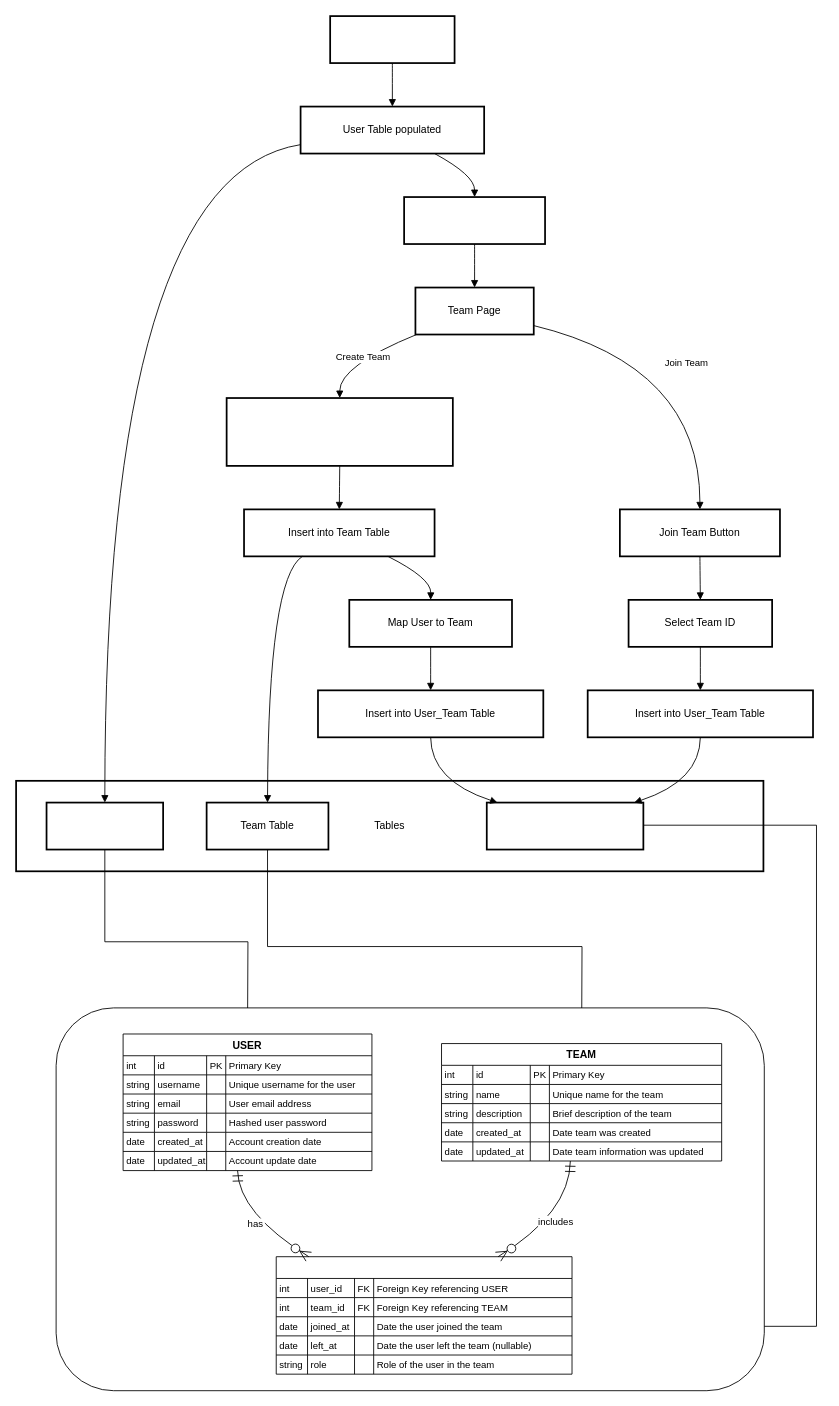
This 839x1406 diagram has some shape labels left out. The box of each missing label's shape, as (x1, y1, x2, y2) in pixels:
Add Team Name and Description: (225, 397, 453, 466)
Onboarding UI: (403, 196, 545, 244)
User Signup: (329, 15, 455, 64)
User Table: (45, 801, 164, 850)
User_Team Table: (485, 801, 644, 850)
USER_TEAM_TABLE: (275, 1256, 572, 1374)
